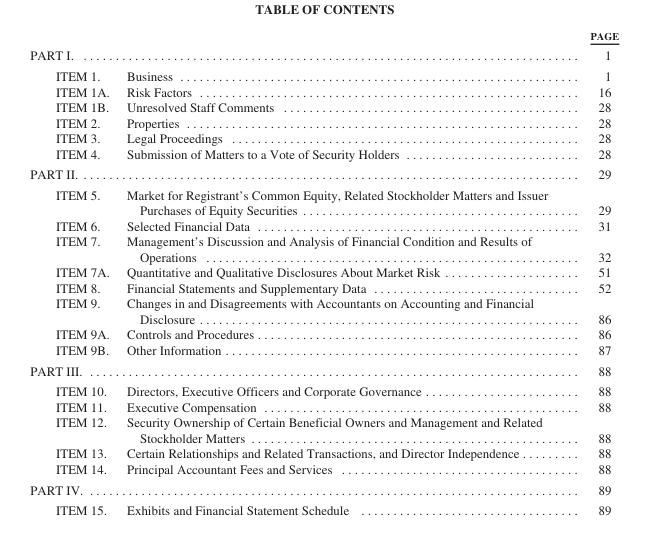table: (29, 29, 618, 517)
table column: (117, 29, 568, 517), (29, 29, 117, 517), (568, 29, 618, 517)
table column header: (29, 29, 618, 44)
table row: (29, 184, 618, 217), (29, 233, 618, 264), (29, 295, 618, 326), (29, 414, 618, 445), (29, 44, 618, 65), (29, 163, 618, 184), (29, 359, 618, 380), (29, 478, 618, 499), (29, 65, 618, 83), (29, 145, 618, 163), (29, 341, 618, 359), (29, 380, 618, 398), (29, 460, 618, 478), (29, 499, 618, 517), (29, 98, 618, 114), (29, 129, 618, 145), (29, 217, 618, 233), (29, 279, 618, 295), (29, 398, 618, 414), (29, 29, 618, 44), (29, 83, 618, 98), (29, 114, 618, 129), (29, 264, 618, 279), (29, 326, 618, 341), (29, 445, 618, 460)
table spanning cell: (29, 44, 568, 65), (29, 163, 568, 184), (29, 359, 568, 380), (29, 478, 568, 499)
